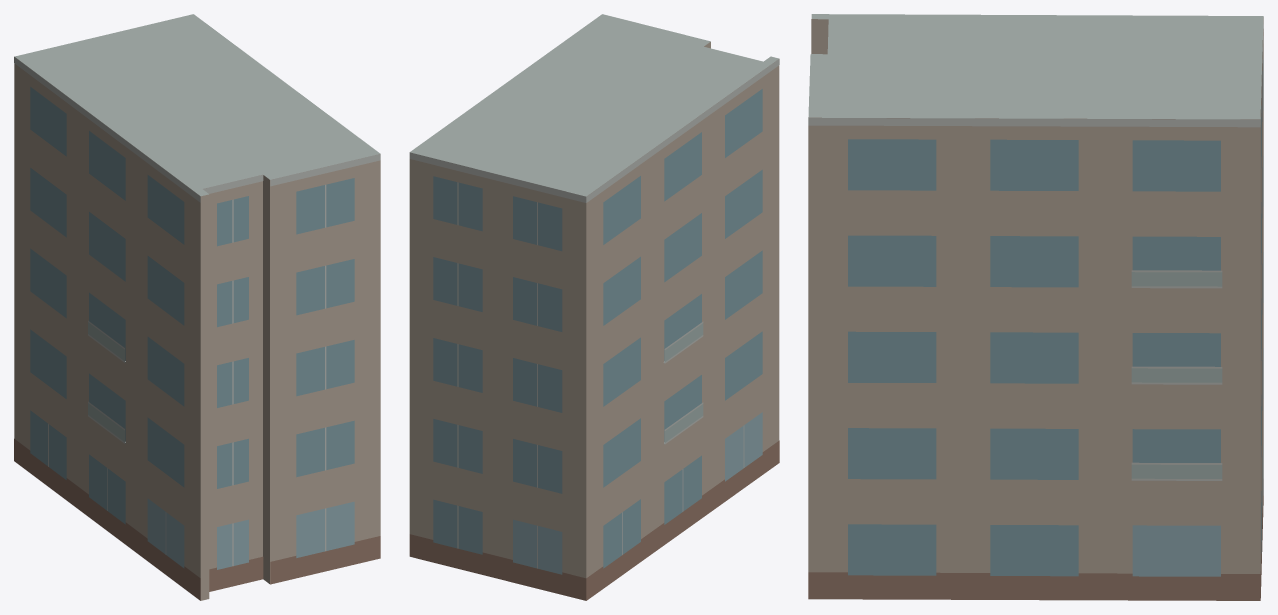
The model's file is survey-upis-32840617.glb.
3 views of the same model, side by side, from view 1: azimuth 30°, elevation 25°; view 2: azimuth 150°, elevation 25°; view 3: azimuth 270°, elevation 25° (orthographic). The views are drawn at different scales.
Parts seen in each view (by area): view 1: survey-upis-32840617.tmp; view 2: survey-upis-32840617.tmp; view 3: survey-upis-32840617.tmp.
Boxes of the visible parts, x1,y1,x2,y2 form: survey-upis-32840617.tmp: (14,14,380,600); survey-upis-32840617.tmp: (409,14,779,600); survey-upis-32840617.tmp: (808,14,1263,600).
Bounding box in the file's own units: 7.1 × 15.05 × 12.9.
